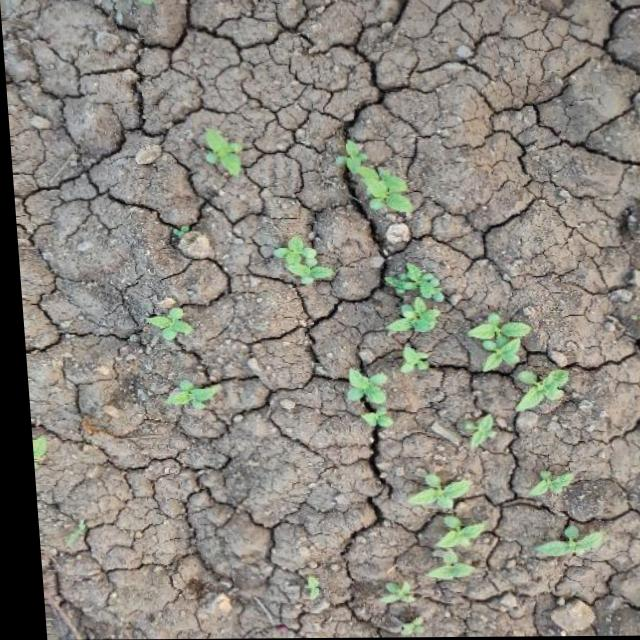crop: (391, 463, 487, 593), (462, 308, 571, 416), (326, 135, 420, 227), (369, 256, 446, 341), (267, 228, 335, 293), (130, 294, 199, 347), (195, 126, 251, 182), (517, 527, 604, 563), (151, 375, 219, 418), (517, 465, 570, 507)
